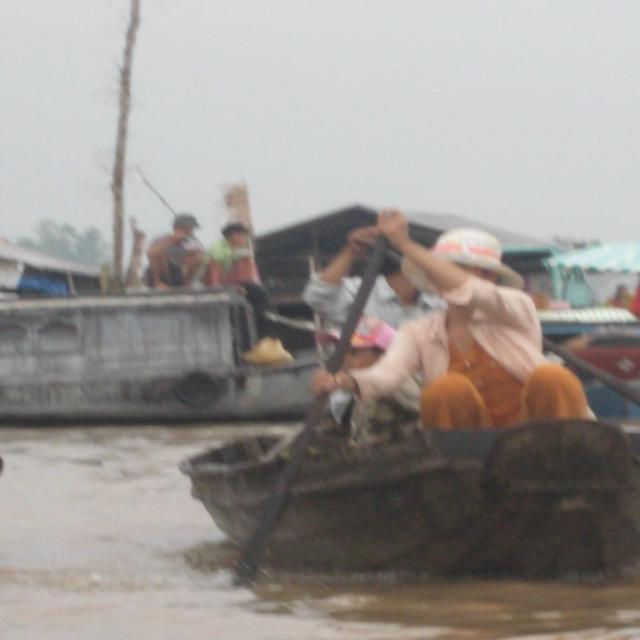boat: (172, 400, 640, 588), (0, 268, 398, 434)
